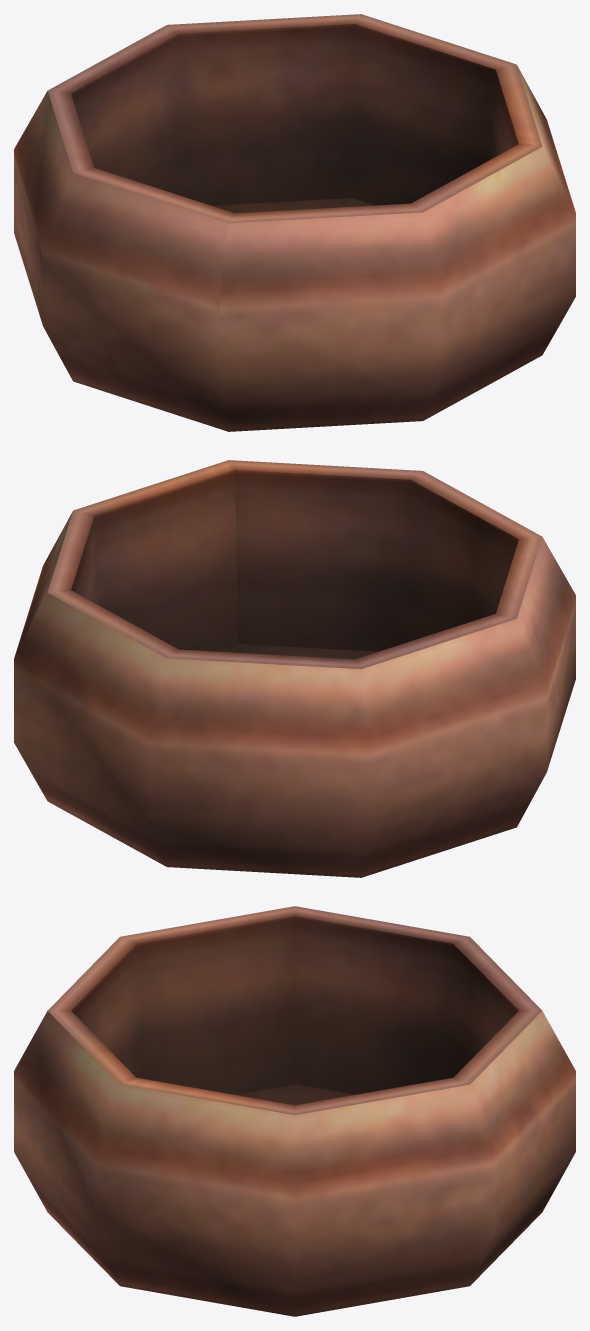
The model's file is Tea_6.FBX.
The picture shows the model from 3 angles, top to bottom: view 1: azimuth 30°, elevation 25°; view 2: azimuth 150°, elevation 25°; view 3: azimuth 270°, elevation 25°; orthographic projection. The views are drawn at different scales.
Visible parts, largest first — view 1: tea6; view 2: tea6; view 3: tea6.
Part boxes in pixels (<box>): tea6: <box>14,14,575,431</box>; tea6: <box>14,460,575,877</box>; tea6: <box>14,906,575,1316</box>.
Size of the model in its own units: 9.74 by 3.85 by 9.74.
